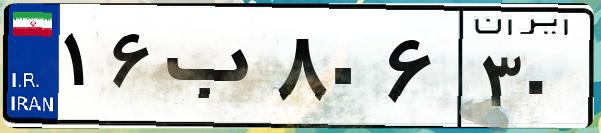0: (330, 28, 385, 110), (525, 38, 570, 115)
1: (57, 26, 110, 100)
3: (475, 38, 525, 113)
6: (385, 28, 445, 110), (110, 28, 158, 98)
8: (270, 28, 330, 110)
ب: (158, 20, 270, 120)
